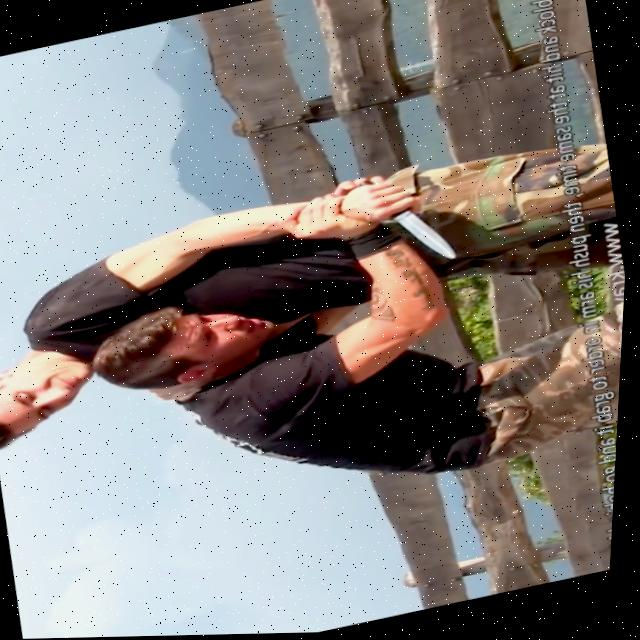knife: (392, 202, 462, 271)
